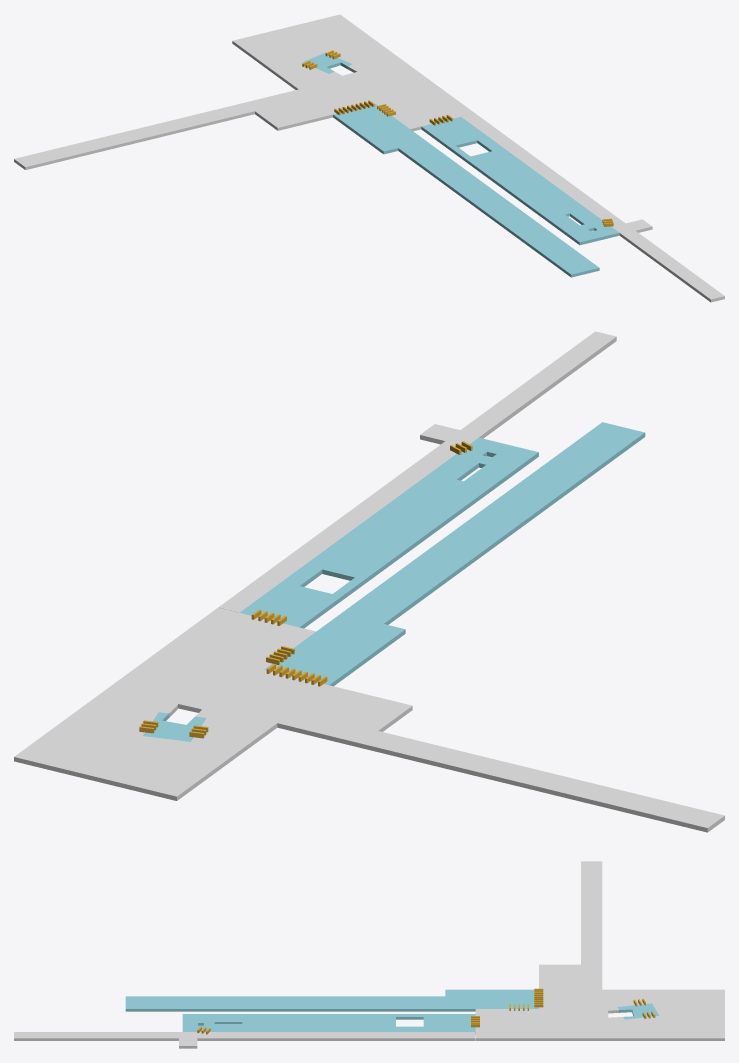
3 views of the same model, one above another, from view 1: azimuth 30°, elevation 25°; view 2: azimuth 150°, elevation 25°; view 3: azimuth 270°, elevation 25° (orthographic). The views are drawn at different scales.
Visible parts, largest first — view 1: 地下東口前通路, 地下2階通路, 地下鉄改札内通路, 地下自由通路, 地下鉄中央改札内; view 2: 地下東口前通路, 地下2階通路, 地下鉄改札内通路, 地下自由通路, 地下鉄中央改札内; view 3: 地下東口前通路, 地下2階通路, 地下鉄改札内通路, 地下自由通路, 地下鉄中央改札内.
Boxes of the visible parts, left/top/right/bottom form: 地下東口前通路: left=14, top=14, right=474, bottom=169; 地下2階通路: left=333, top=104, right=599, bottom=277; 地下鉄改札内通路: left=421, top=117, right=619, bottom=245; 地下自由通路: left=461, top=113, right=724, bottom=302; 地下鉄中央改札内: left=302, top=52, right=352, bottom=73; 地下東口前通路: left=14, top=607, right=724, bottom=832; 地下2階通路: left=265, top=422, right=645, bottom=686; 地下鉄改札内通路: left=239, top=437, right=538, bottom=628; 地下自由通路: left=218, top=331, right=616, bottom=612; 地下鉄中央改札内: left=143, top=712, right=206, bottom=741; 地下東口前通路: left=475, top=861, right=724, bottom=1040; 地下2階通路: left=125, top=989, right=538, bottom=1011; 地下鉄改札内通路: left=182, top=1014, right=475, bottom=1034; 地下自由通路: left=14, top=1032, right=475, bottom=1048; 地下鉄中央改札内: left=617, top=1003, right=659, bottom=1019.
Bounding box in the file's own units: 14484 × 200 × 23571.
